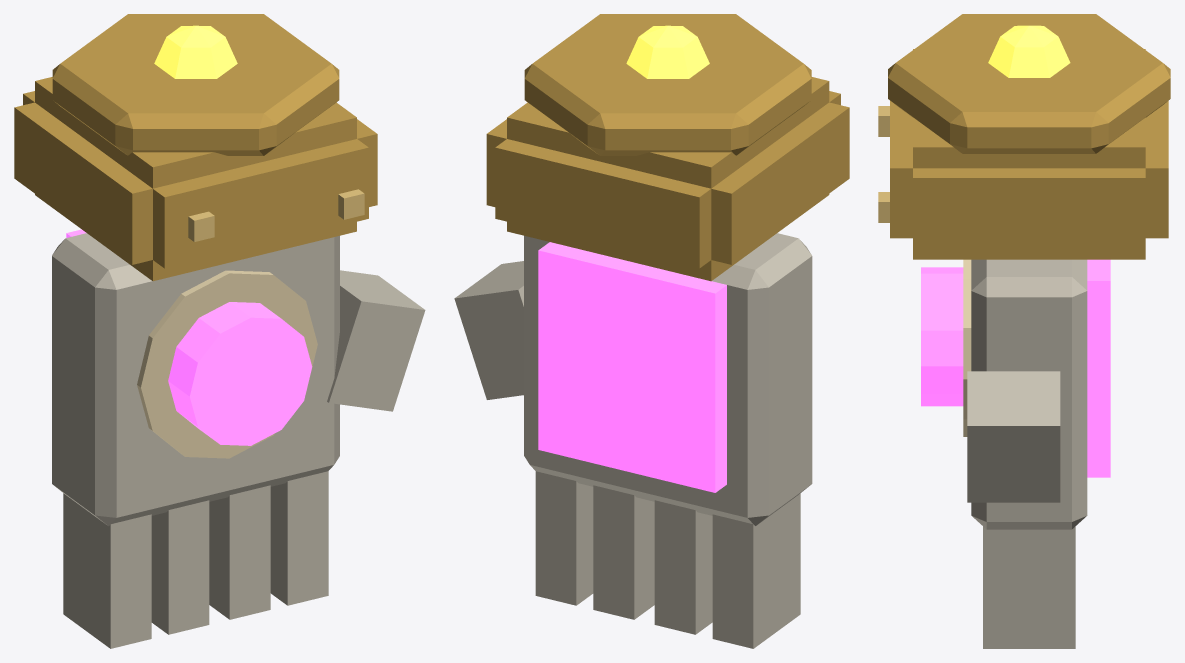
The model's file is arm_seer.glb.
3 renders of one model, left to right at view 1: azimuth 30°, elevation 25°; view 2: azimuth 150°, elevation 25°; view 3: azimuth 270°, elevation 25°, orthographic.
Visible parts, largest first — view 1: arm_seer; view 2: arm_seer; view 3: arm_seer.
Boxes of the visible parts, x1,y1,x2,y2 form: arm_seer: [14, 14, 425, 648]; arm_seer: [454, 14, 849, 648]; arm_seer: [878, 14, 1170, 648].
Size of the model in its own units: 0.4709 by 0.8132 by 0.3775.
Materials: 1 (1 with a texture image).
